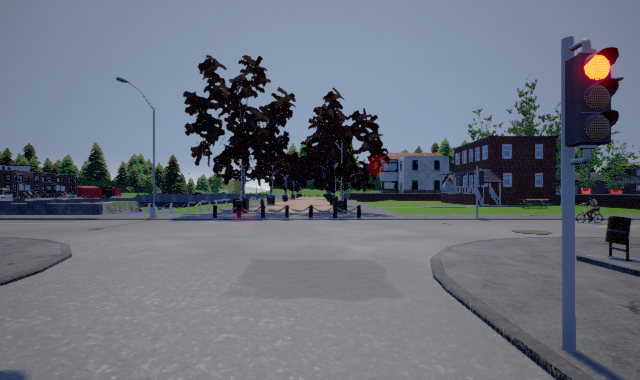bike: (575, 195, 605, 224)
traffic_light: (565, 38, 619, 165)
